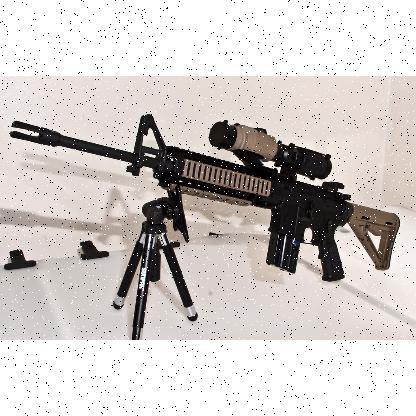gun: (10, 112, 400, 280)
